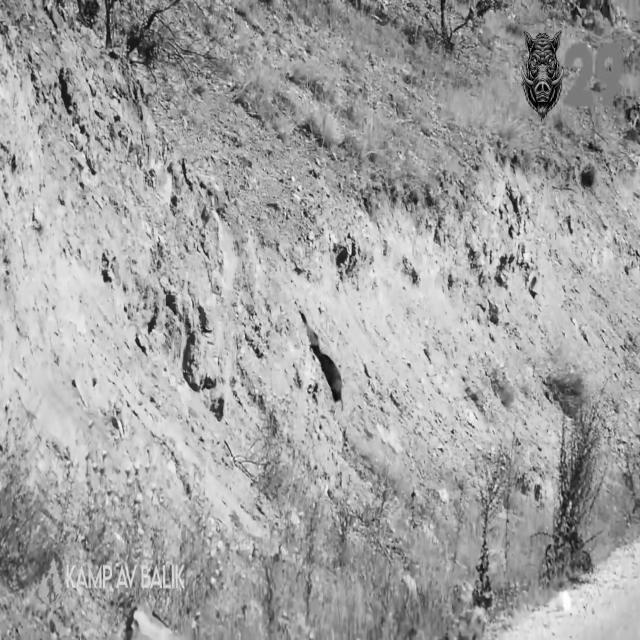boar: (521, 31, 563, 119), (313, 346, 342, 401)
